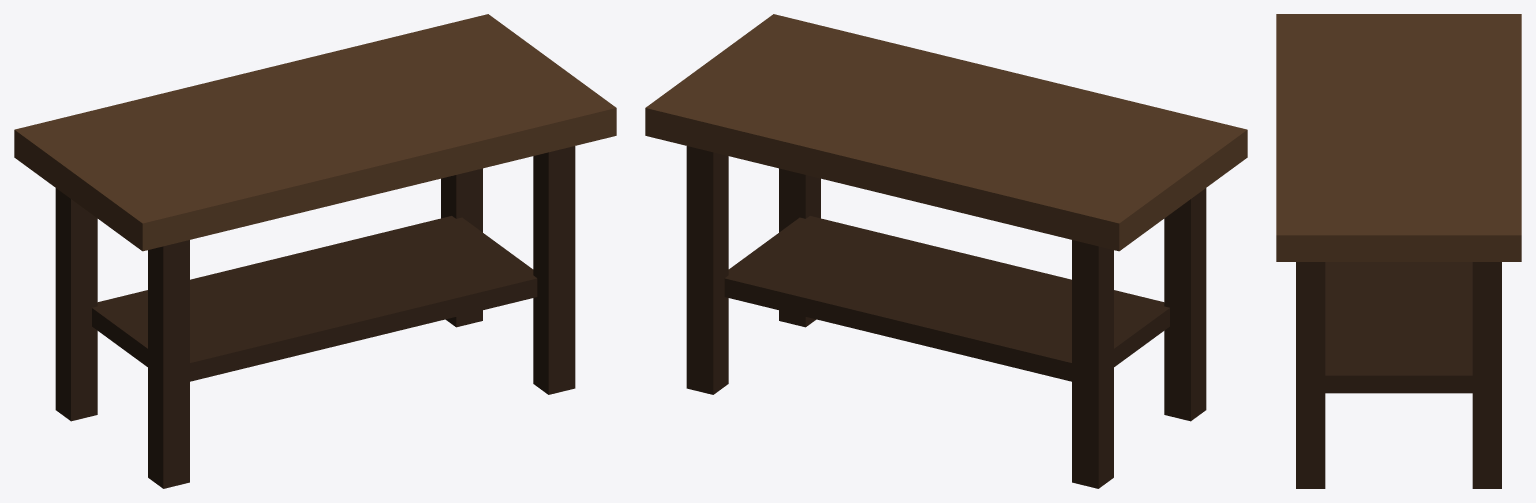
The model's file is AUR_WorkTable.obj.
3 renders of one model, left to right at view 1: azimuth 30°, elevation 25°; view 2: azimuth 150°, elevation 25°; view 3: azimuth 270°, elevation 25°, orthographic. The views are drawn at different scales.
Parts seen in each view (by area): view 1: top_0, lower_shelf_5, leg_4, leg_2, leg_1, leg_3; view 2: top_0, lower_shelf_5, leg_3, leg_1, leg_2, leg_4; view 3: top_0, lower_shelf_5, leg_3, leg_4.
Boxes of the visible parts, bbox=[...] form: top_0: bbox=[14, 14, 616, 251]; lower_shelf_5: bbox=[92, 216, 537, 381]; leg_4: bbox=[533, 146, 575, 394]; leg_2: bbox=[148, 240, 189, 488]; leg_1: bbox=[55, 188, 97, 421]; leg_3: bbox=[441, 168, 482, 327]; top_0: bbox=[645, 14, 1247, 251]; lower_shelf_5: bbox=[724, 216, 1169, 381]; leg_3: bbox=[686, 146, 728, 394]; leg_1: bbox=[1072, 240, 1113, 488]; leg_2: bbox=[1164, 188, 1206, 421]; leg_4: bbox=[779, 168, 820, 327]; top_0: bbox=[1276, 14, 1521, 261]; lower_shelf_5: bbox=[1325, 262, 1472, 393]; leg_3: bbox=[1472, 262, 1501, 488]; leg_4: bbox=[1296, 262, 1325, 488].
Bounding box in the file's own units: 1.6 × 0.905 × 0.75.
